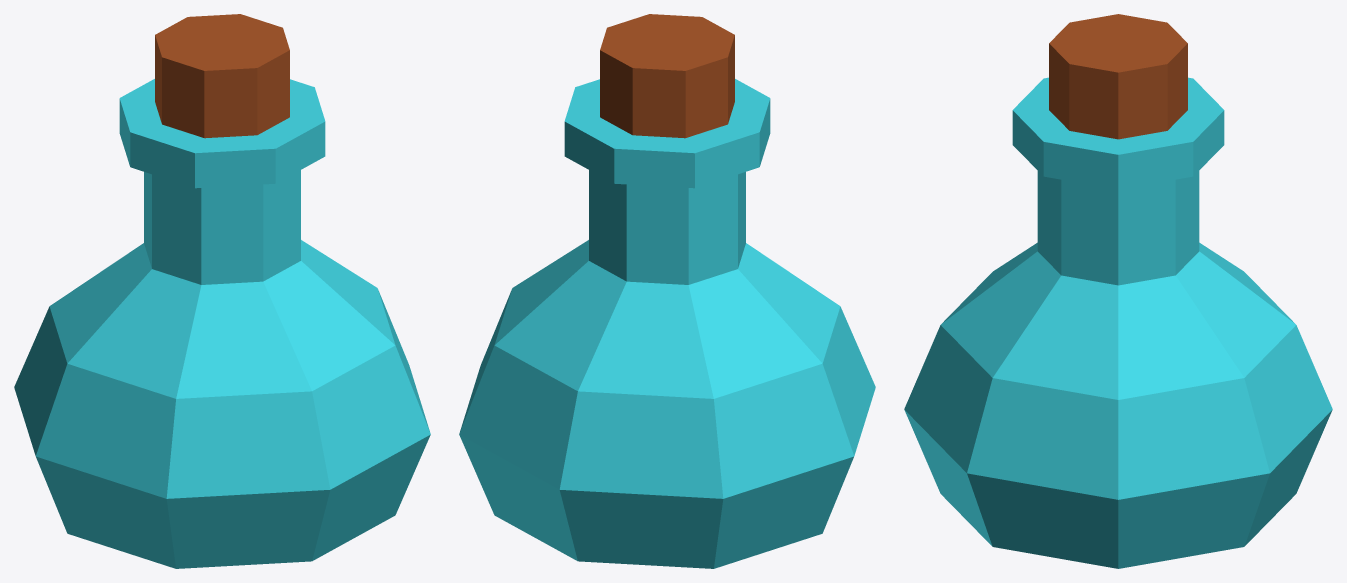
File: glass.fbx
The picture shows the model from 3 angles, left to right: view 1: azimuth 30°, elevation 25°; view 2: azimuth 150°, elevation 25°; view 3: azimuth 270°, elevation 25°; orthographic projection.
Visible parts, largest first — view 1: _glass02; view 2: _glass02; view 3: _glass02.
Part boxes in pixels (bbox=[...]): _glass02: bbox=[14, 14, 430, 568]; _glass02: bbox=[459, 14, 875, 568]; _glass02: bbox=[904, 14, 1332, 568].
Size of the model in its own units: 54.69 by 63.42 by 54.69.
